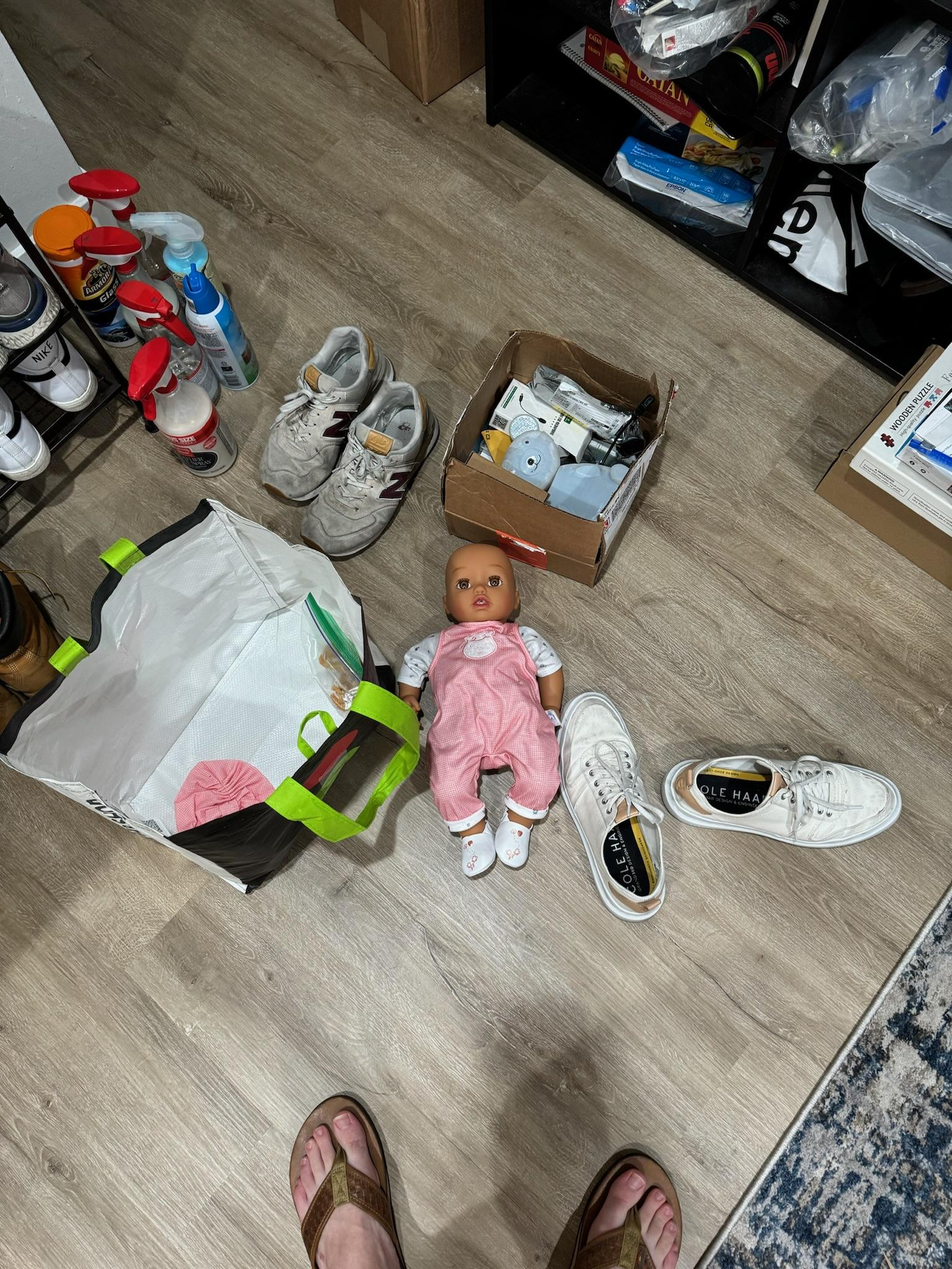baby: (386, 537, 585, 880)
